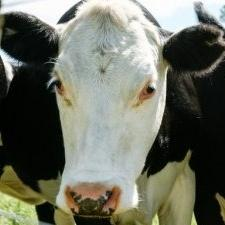muzzles: (53, 174, 141, 220)
